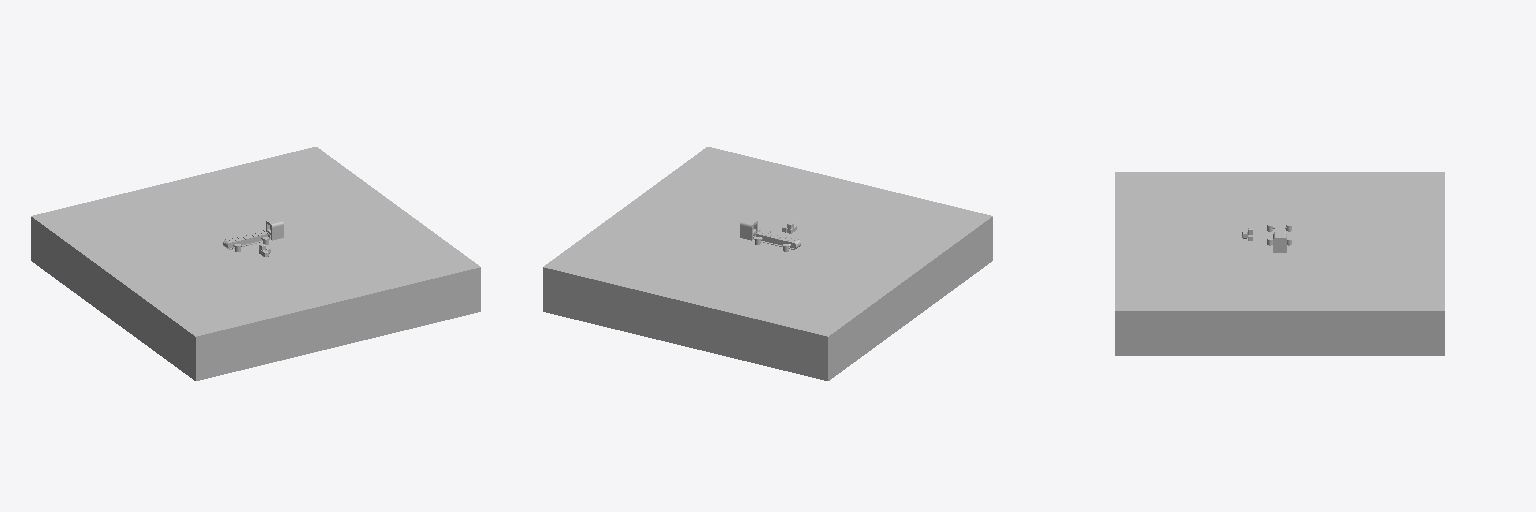
The model's file is conveyer belt legacy.obj.
3 renders of one model, left to right at view 1: azimuth 30°, elevation 25°; view 2: azimuth 150°, elevation 25°; view 3: azimuth 270°, elevation 25°, orthographic.
Parts seen in each view (by area): view 1: Plane.002_Plane.004; view 2: Plane.002_Plane.004; view 3: Plane.002_Plane.004.
Part boxes in pixels (x1,y1,x2,y2): Plane.002_Plane.004: (31,147,480,380); Plane.002_Plane.004: (543,147,992,380); Plane.002_Plane.004: (1115,172,1444,355).
Size of the model in its own units: 48.51 by 9.83 by 48.51.